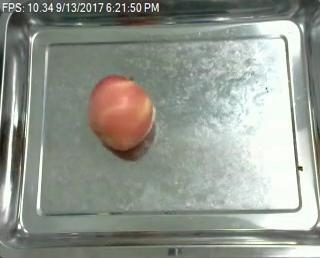apple: (87, 74, 156, 152)
